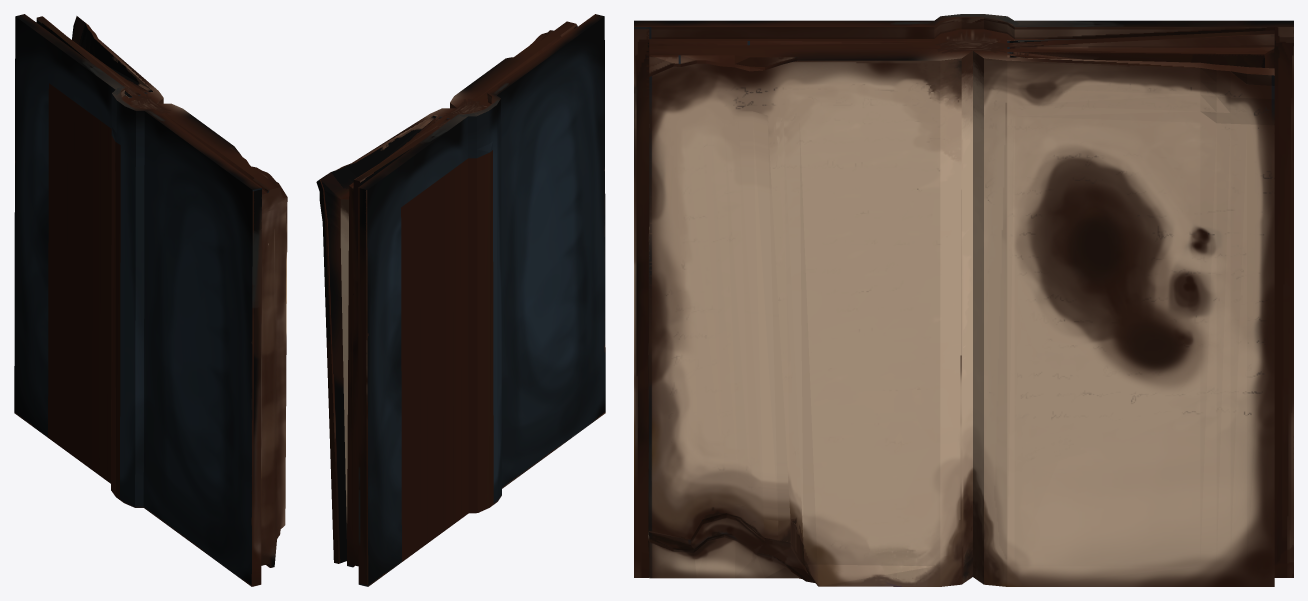
The model's file is OpenBurntBook.dae.
3 views of the same model, side by side, from view 1: azimuth 30°, elevation 25°; view 2: azimuth 150°, elevation 25°; view 3: azimuth 270°, elevation 25° (orthographic). The views are drawn at different scales.
Visible parts, largest first — view 1: Book; view 2: Book; view 3: Book.
Boxes of the visible parts, <box> form: Book: <box>14,14,287,586</box>; Book: <box>316,14,605,586</box>; Book: <box>634,14,1293,586</box>.
Size of the model in its own units: 4.71 by 25.8 by 27.97.
Materials: 1 (1 with a texture image).
